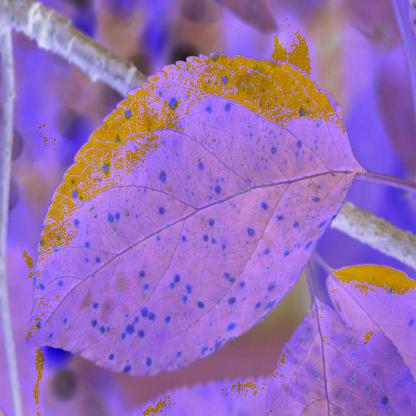Apple rust leaf: (23, 48, 377, 383)
